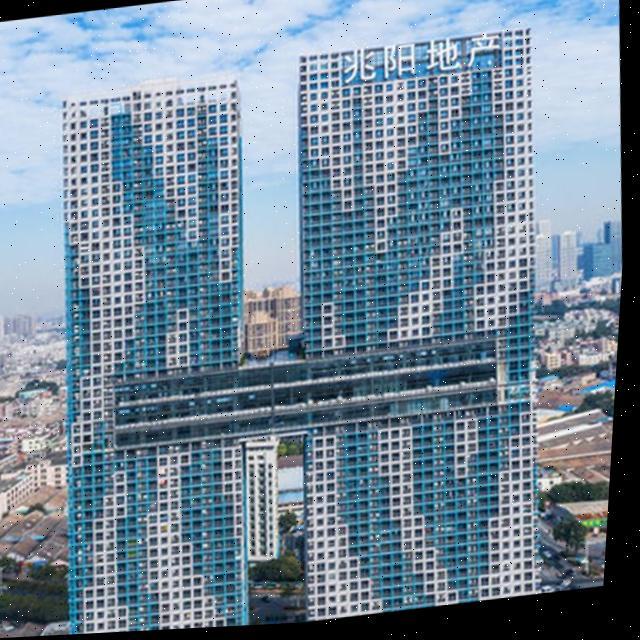building: (262, 24, 571, 623), (25, 68, 277, 637), (0, 302, 75, 517), (524, 207, 626, 296), (233, 427, 291, 568), (238, 282, 308, 362)
